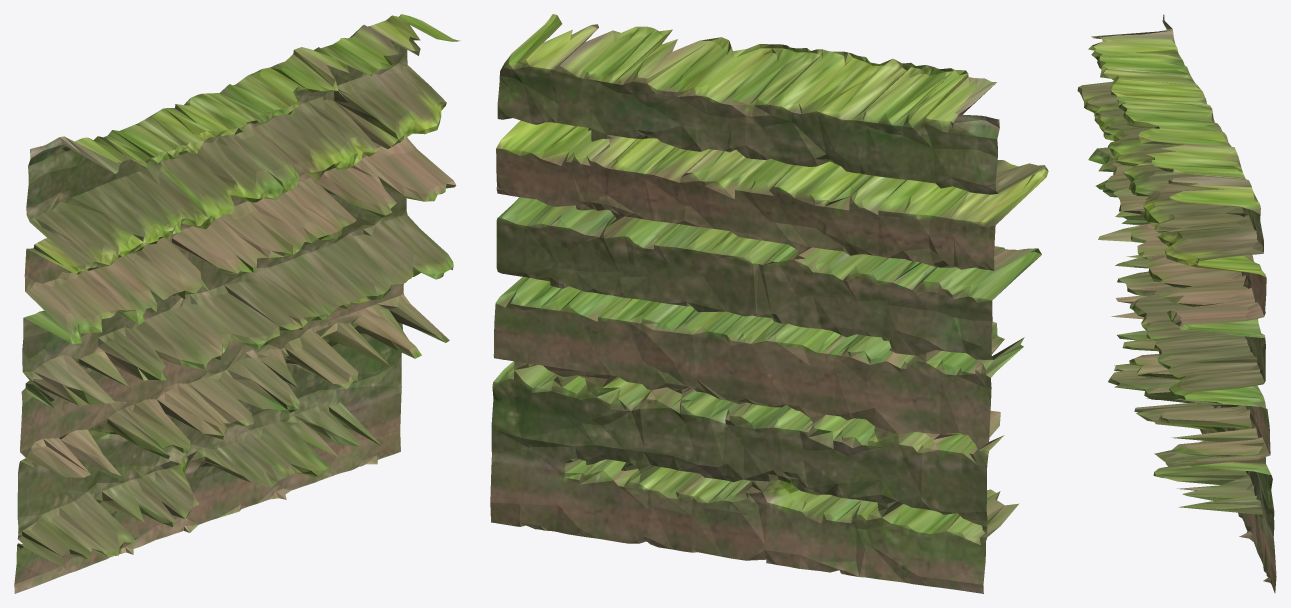
Rendered from map_210_30.obj.
The picture shows the model from 3 angles, left to right: view 1: azimuth 30°, elevation 25°; view 2: azimuth 150°, elevation 25°; view 3: azimuth 270°, elevation 25°; orthographic projection. The views are drawn at different scales.
Parts seen in each view (by area): view 1: grp1; view 2: grp1; view 3: grp1.
Boxes of the visible parts, box(x1,y1,x2,y2) form: grp1: box(14, 14, 460, 593); grp1: box(490, 14, 1048, 593); grp1: box(1077, 14, 1276, 593).
Size of the model in its own units: 10 by 10 by 4.56.
1 material, 1 textured.
